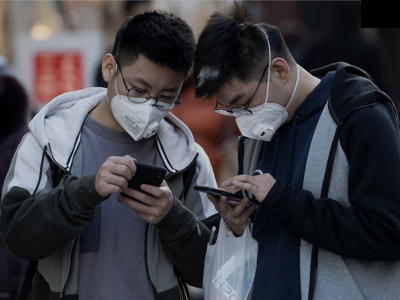with_mask: (106, 73, 180, 133), (224, 87, 288, 144)
